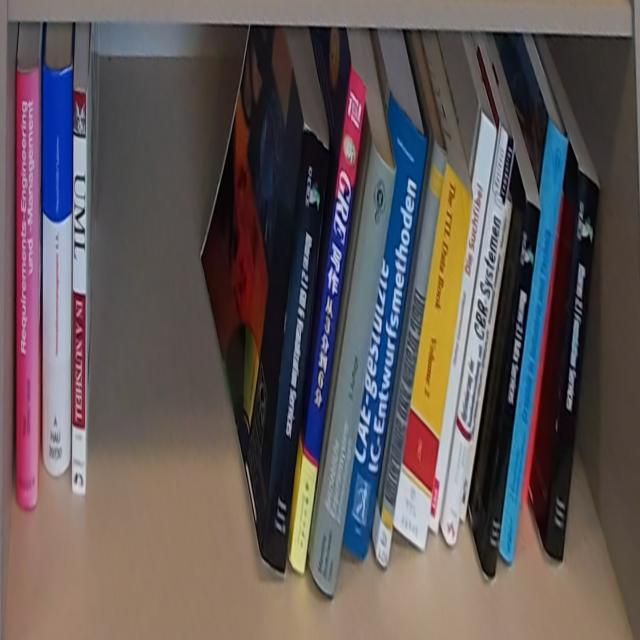Book Spine: (342, 92, 431, 561), (309, 135, 397, 597), (289, 67, 369, 574), (439, 125, 515, 549), (374, 137, 447, 571), (394, 160, 474, 555), (499, 114, 569, 563), (261, 125, 329, 572), (428, 112, 500, 531), (483, 196, 541, 583), (544, 165, 600, 560), (460, 198, 512, 529), (41, 64, 74, 479), (16, 67, 40, 513), (72, 88, 87, 499)
